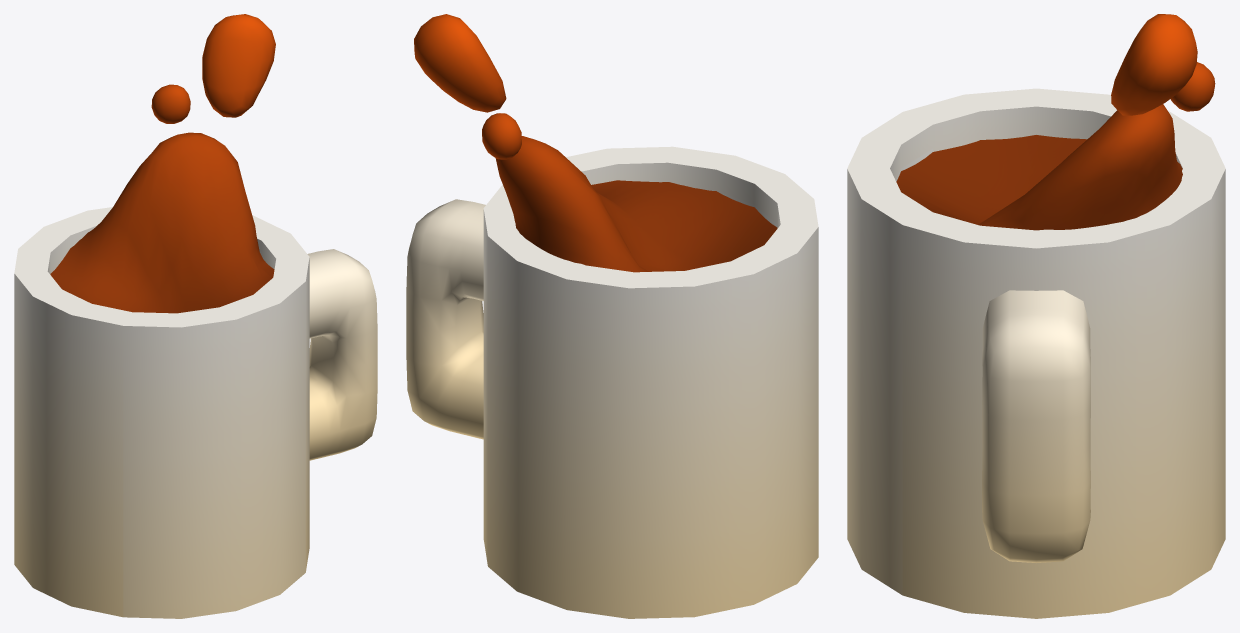
File: Collectable_Coffee_Mug_01.fbx
3 renders of one model, left to right at view 1: azimuth 30°, elevation 25°; view 2: azimuth 150°, elevation 25°; view 3: azimuth 270°, elevation 25°, orthographic. The views are drawn at different scales.
Visible parts, largest first — view 1: Collectable_Coffee_Mug_01; view 2: Collectable_Coffee_Mug_01; view 3: Collectable_Coffee_Mug_01.
Part boxes in pixels (left/top/right/bottom): Collectable_Coffee_Mug_01: left=14, top=14, right=377, bottom=618; Collectable_Coffee_Mug_01: left=406, top=14, right=818, bottom=618; Collectable_Coffee_Mug_01: left=847, top=14, right=1225, bottom=618.
Bounding box in the file's own units: 42.78 × 58.05 × 33.09.
Materials: 1 (1 with a texture image).
